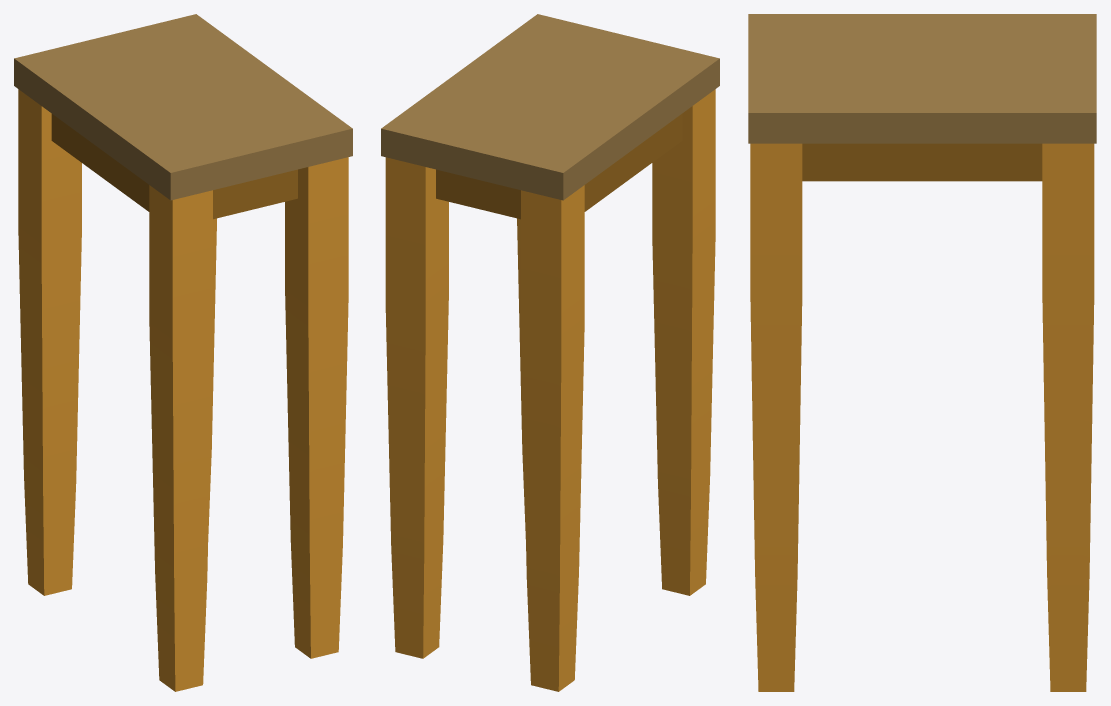
File: tiny table.FBX
3 views of the same model, side by side, from view 1: azimuth 30°, elevation 25°; view 2: azimuth 150°, elevation 25°; view 3: azimuth 270°, elevation 25° (orthographic). The views are drawn at different scales.
Parts seen in each view (by area): view 1: Top, Leg3, Leg4, Leg2, Bottom, Leg1; view 2: Top, Leg2, Leg1, Leg3, Bottom, Leg4; view 3: Top, Leg4, Leg1, Bottom.
Boxes of the visible parts, bbox=[...] form: Top: bbox=[14, 14, 352, 200]; Leg3: bbox=[149, 185, 212, 691]; Leg4: bbox=[285, 157, 348, 658]; Leg2: bbox=[18, 89, 81, 595]; Bottom: bbox=[51, 114, 297, 219]; Leg1: bbox=[208, 218, 216, 533]; Top: bbox=[381, 14, 719, 200]; Leg2: bbox=[521, 185, 584, 691]; Leg1: bbox=[385, 157, 448, 658]; Leg3: bbox=[652, 89, 715, 595]; Bottom: bbox=[436, 114, 682, 219]; Leg4: bbox=[517, 218, 525, 538]; Top: bbox=[748, 14, 1096, 143]; Leg4: bbox=[750, 143, 802, 691]; Leg1: bbox=[1042, 143, 1094, 691]; Bottom: bbox=[802, 143, 1042, 181].
Size of the model in its own units: 30.02 by 82.6 by 44.68.
